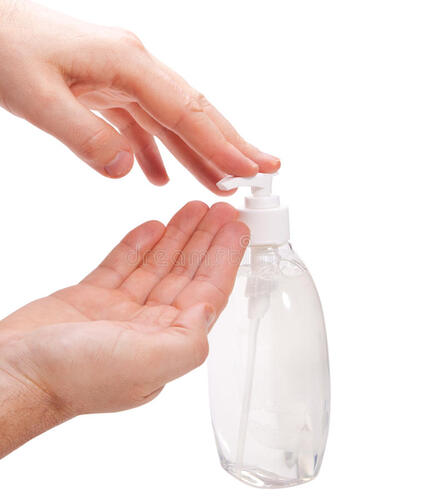sanitizer: (204, 170, 330, 485)
